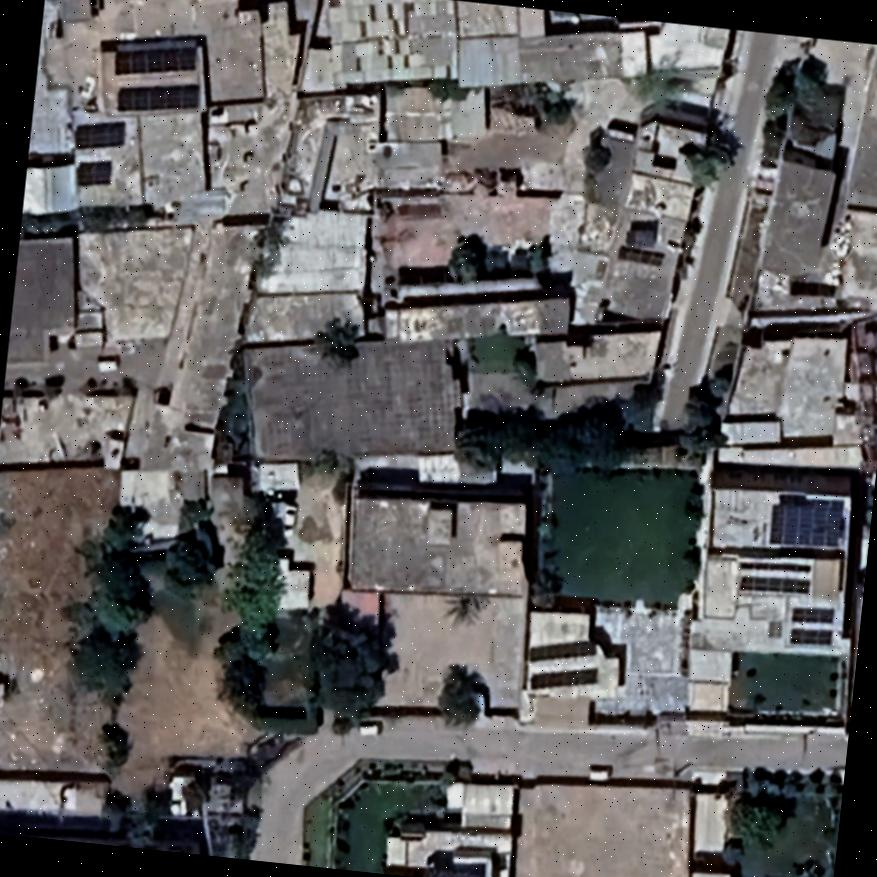Solarpanel: (764, 496, 848, 550), (111, 77, 205, 113), (114, 39, 204, 75), (784, 604, 838, 650), (520, 634, 602, 662), (66, 116, 131, 148), (737, 571, 814, 596), (523, 665, 601, 688), (606, 242, 672, 269), (71, 157, 115, 189), (424, 865, 489, 877)
